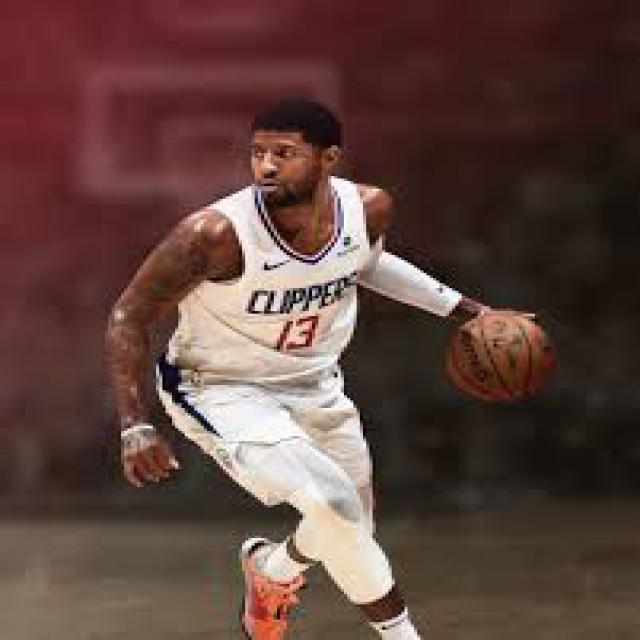basketball: (442, 314, 554, 402)
